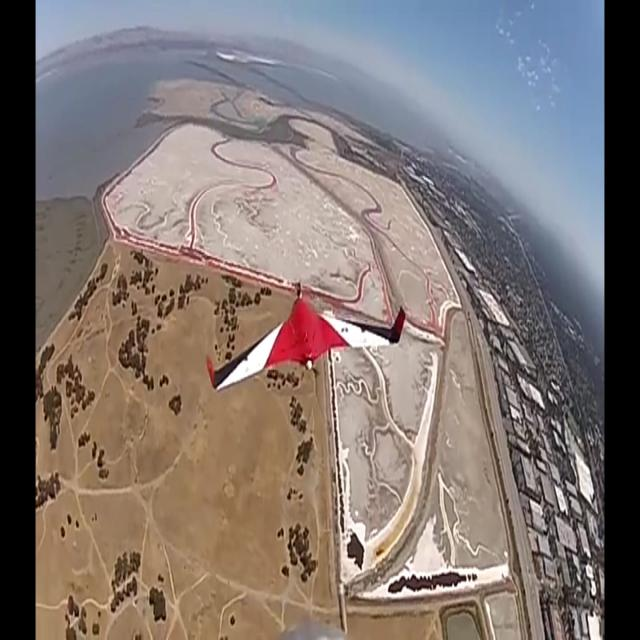iha: (209, 328, 403, 361)
